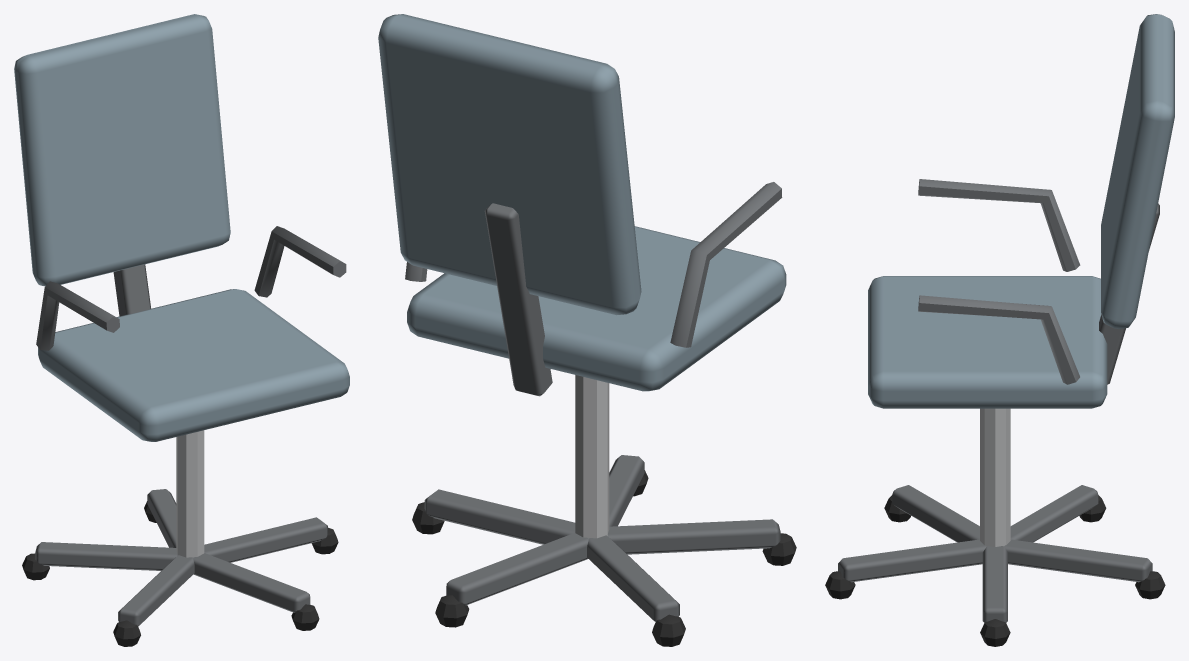
File: chair.glb
3 views of the same model, side by side, from view 1: azimuth 30°, elevation 25°; view 2: azimuth 150°, elevation 25°; view 3: azimuth 270°, elevation 25° (orthographic). The views are drawn at different scales.
Visible parts, largest first — view 1: chair; view 2: chair; view 3: chair.
Part boxes in pixels (x1,y1,x2,y2): chair: [14, 14, 349, 646]; chair: [378, 14, 796, 646]; chair: [825, 14, 1174, 646].
Size of the model in its own units: 0.6389 by 1.13 by 0.687.
